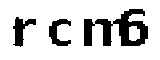6: (121, 3, 150, 48)
c: (46, 18, 74, 49)
m: (79, 18, 126, 49)
r: (11, 14, 39, 48)
